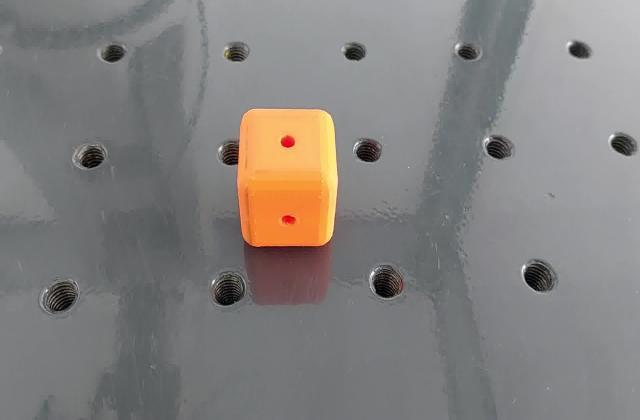cube: (235, 104, 340, 250)
